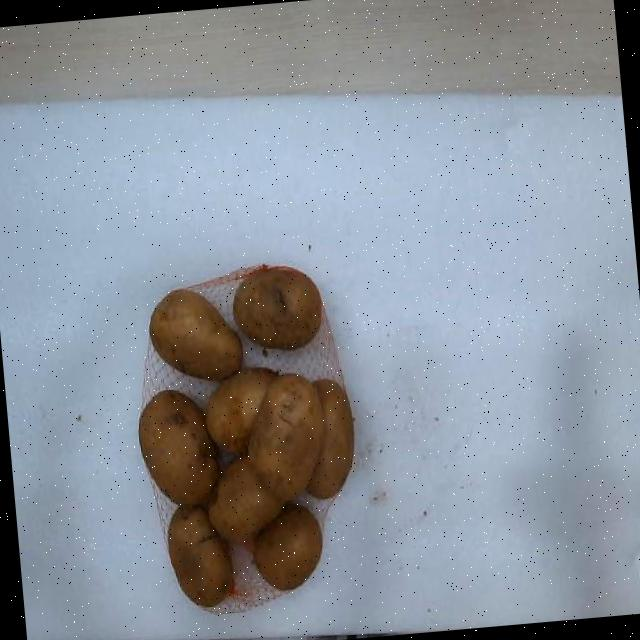potato: (247, 374, 323, 499), (139, 391, 219, 502), (150, 288, 242, 378), (233, 267, 321, 348), (208, 457, 283, 543), (167, 506, 232, 604), (205, 367, 276, 453), (252, 504, 322, 589), (306, 378, 354, 499)
